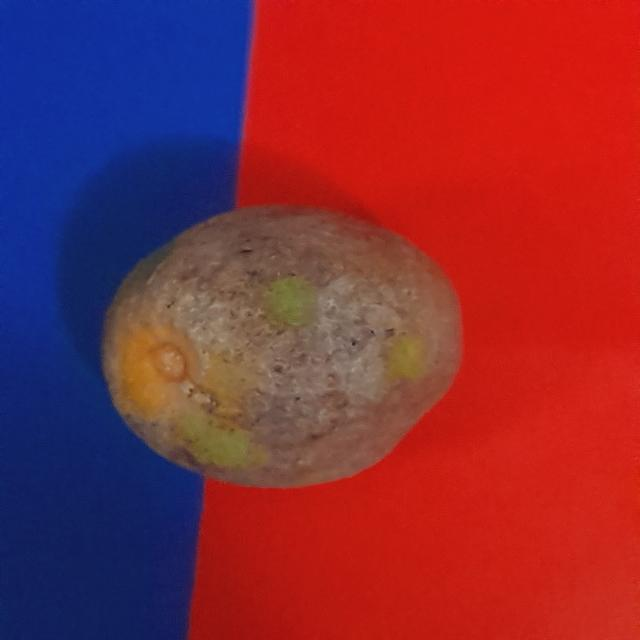thrips: (102, 202, 470, 496)
